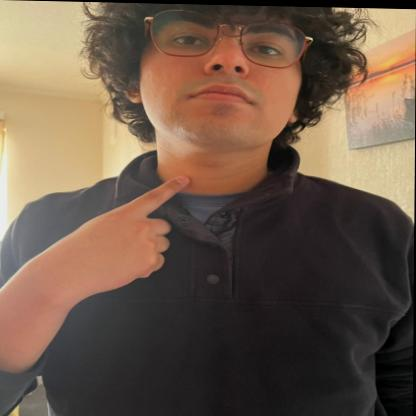Q: (27, 154, 208, 307)
